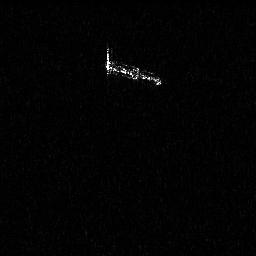ship: (100, 46, 163, 88)
